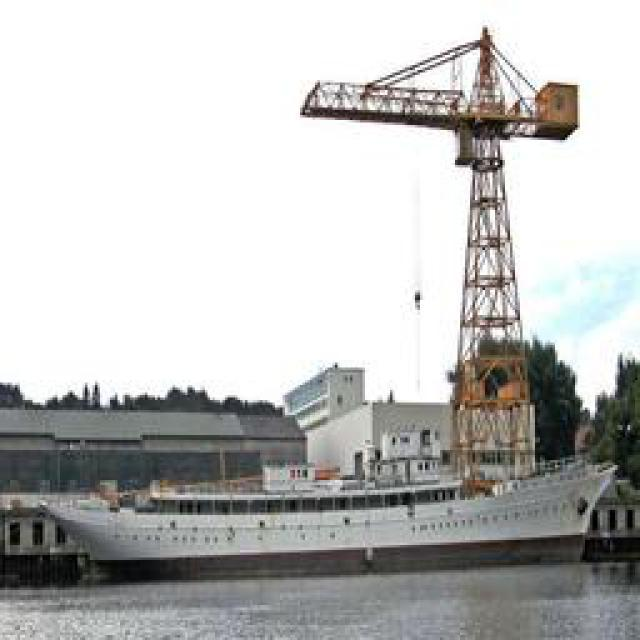Ship: (50, 452, 615, 575)
